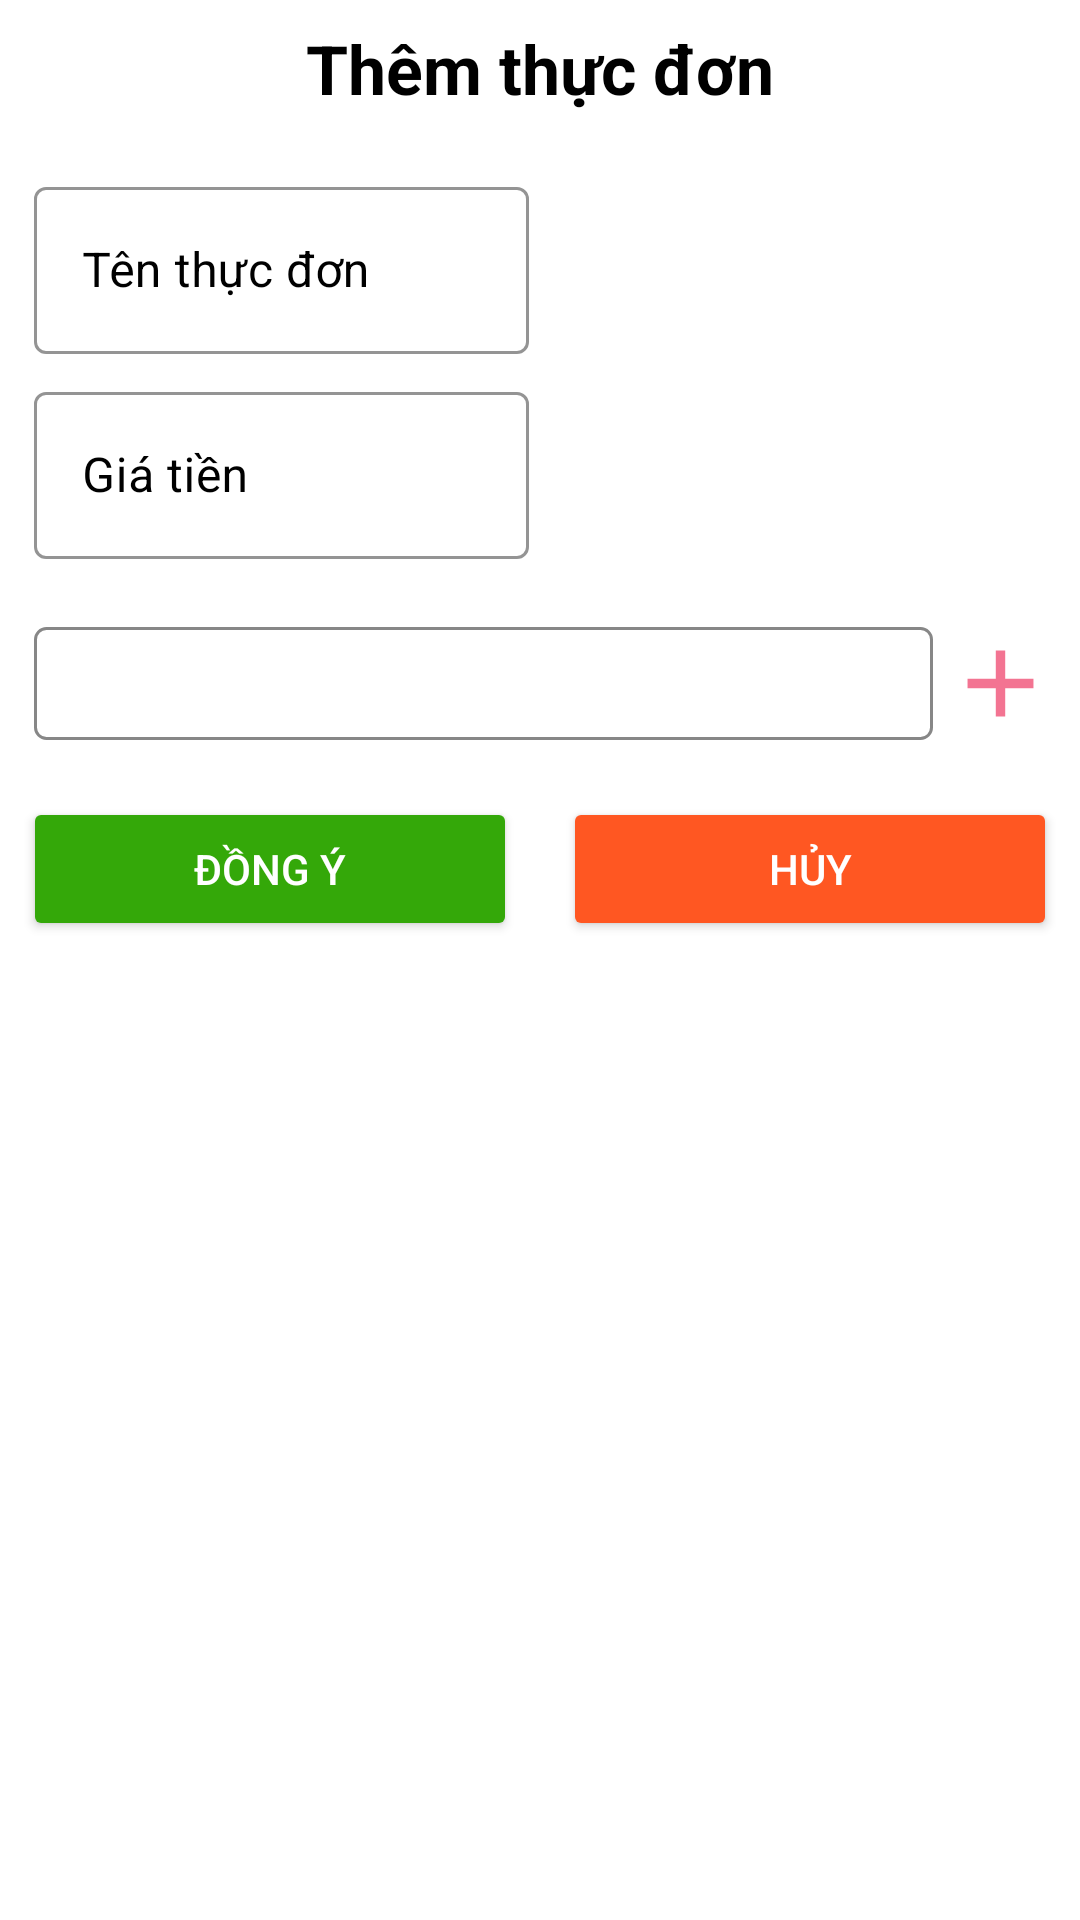

Screen size 1080x1920. Icon name, then its center in pixels as (x,y):
add: (1000,683)
